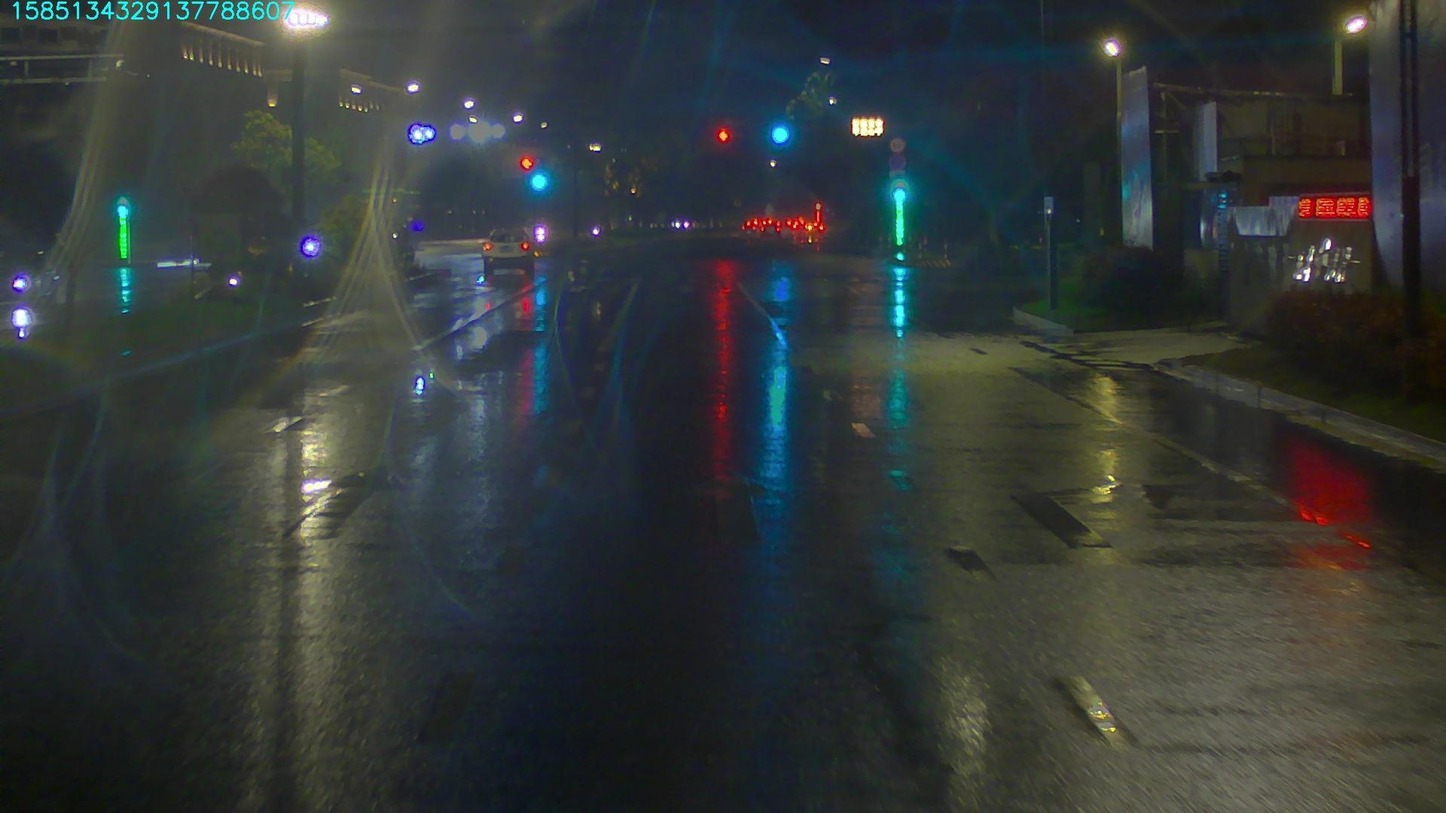green: (767, 122, 795, 149)
red: (711, 122, 740, 142)
